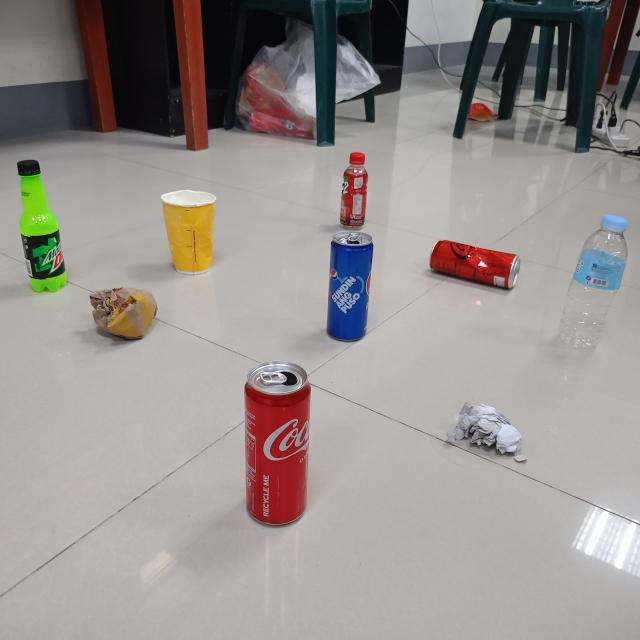recyclable waste: (238, 355, 316, 531), (552, 208, 632, 355), (13, 153, 72, 296), (321, 225, 379, 345), (445, 394, 533, 467), (156, 184, 222, 280), (423, 234, 524, 295), (82, 282, 160, 345), (334, 143, 372, 234)
